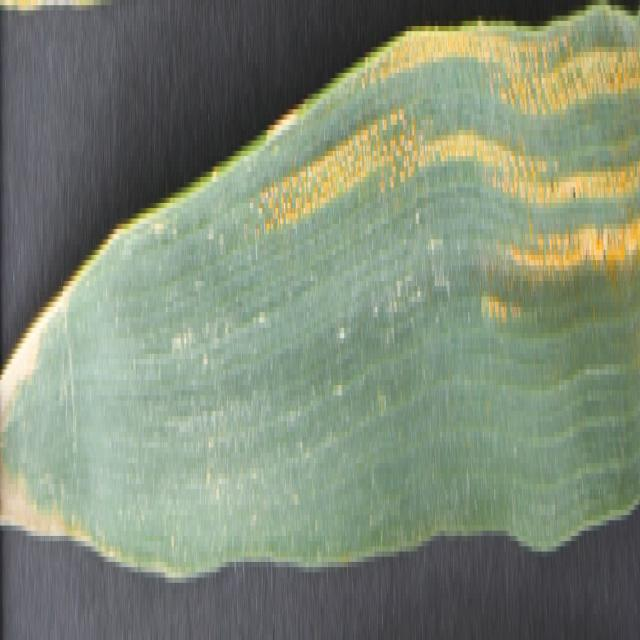leaf rust: (259, 10, 640, 395)
